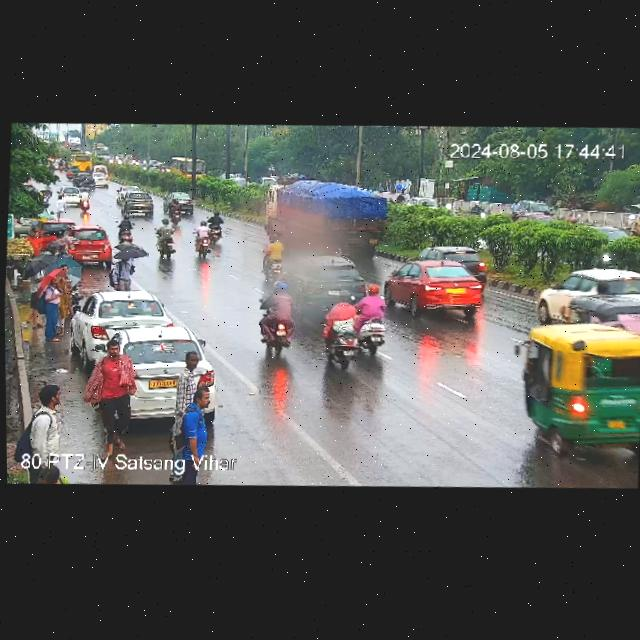bus: (170, 153, 206, 182), (69, 153, 97, 173)
car: (502, 304, 640, 456), (104, 318, 224, 403), (380, 254, 488, 321), (534, 262, 640, 328), (68, 287, 161, 355), (278, 251, 367, 306), (414, 242, 488, 283), (61, 227, 115, 267), (520, 200, 562, 225), (119, 191, 156, 219), (163, 191, 194, 214), (58, 185, 88, 207), (73, 172, 100, 191), (118, 184, 140, 202), (90, 171, 110, 186)
motorcycle: (316, 282, 360, 373), (254, 276, 301, 361), (353, 282, 389, 360), (193, 210, 234, 258), (154, 219, 176, 259), (263, 232, 285, 271), (76, 193, 93, 215), (168, 201, 182, 224), (510, 198, 521, 220)
person: (92, 339, 141, 459), (21, 374, 70, 485), (177, 386, 209, 482), (106, 242, 146, 294), (39, 274, 62, 345), (175, 346, 200, 411), (56, 264, 74, 336), (30, 268, 46, 331), (56, 192, 69, 221), (29, 229, 41, 256)
truck: (259, 173, 383, 257)
